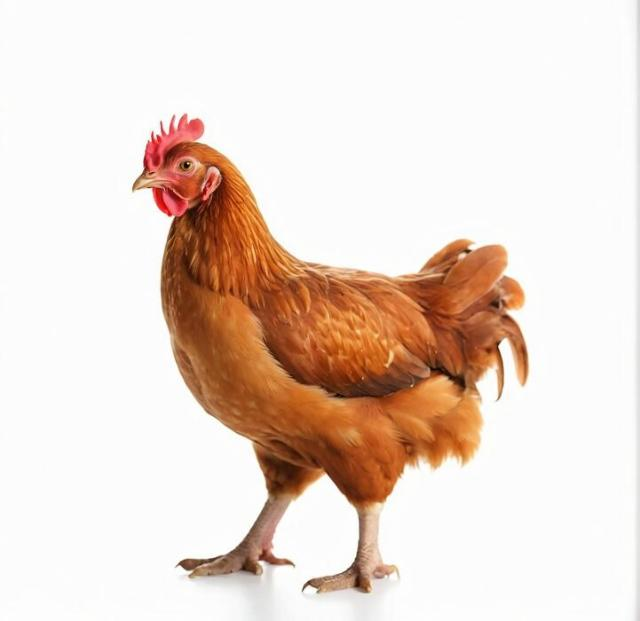Chicken: (129, 112, 529, 592)
